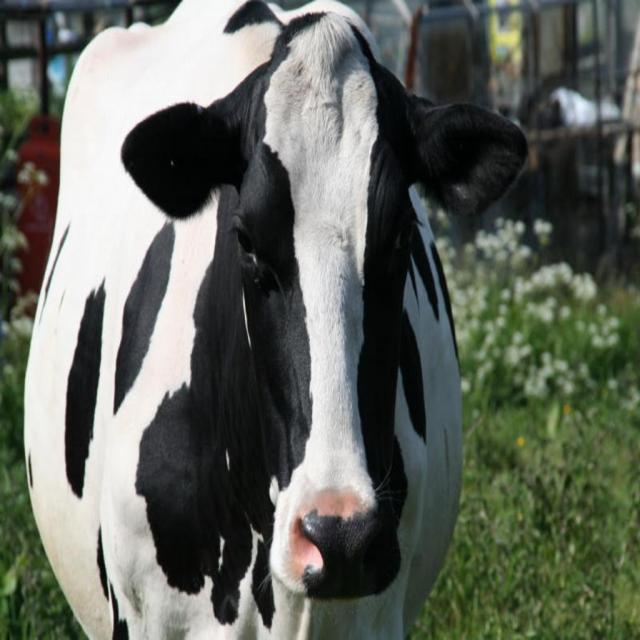Cattle: (24, 0, 529, 640)
